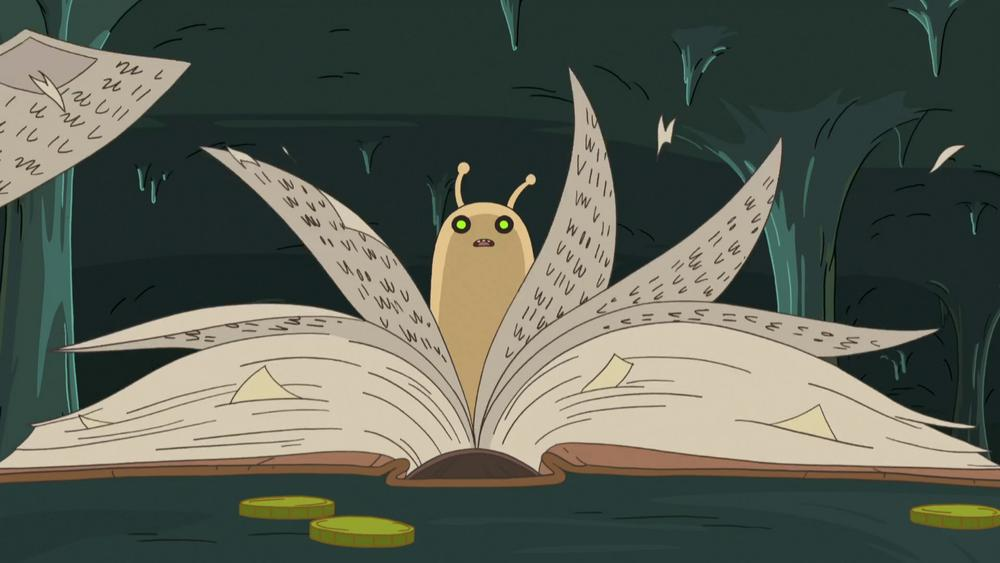snail: (432, 161, 532, 385)
